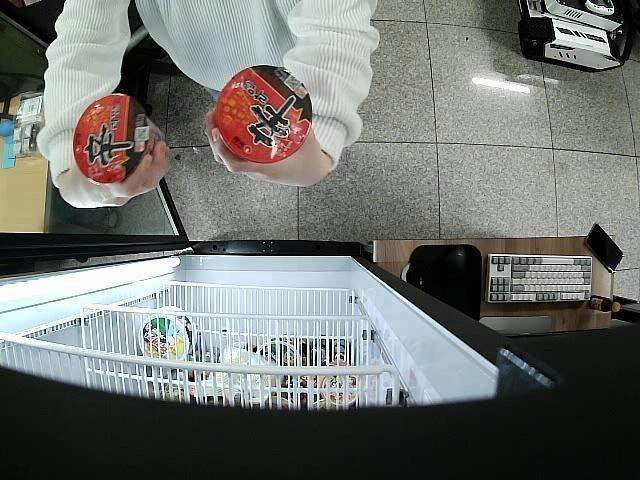02_shinRamen_S: (208, 64, 312, 162), (74, 93, 166, 184)
